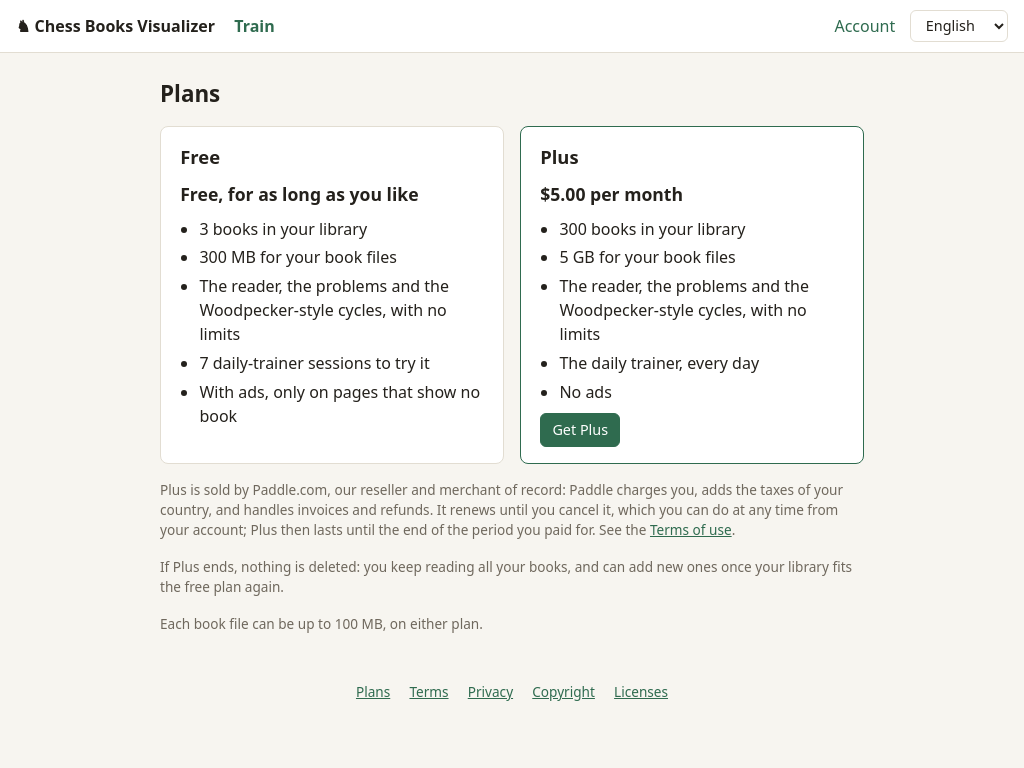
Test: the plans page › opens Paddle's checkout, and Plus starts once Paddle says it was paid
The image size is (1024, 768).
Click the button "Get Plus".
click(580, 430)  # box [540,413,620,447]
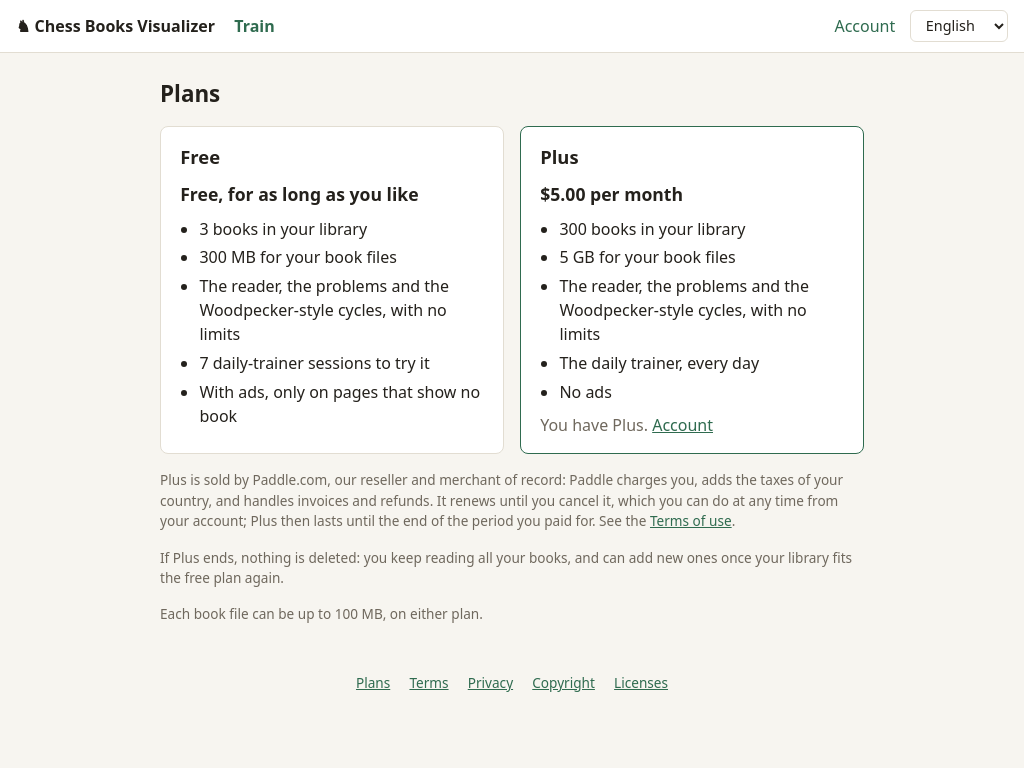
Expected: the text "You have Plus. Account" is shown, [540,414,713,436]
